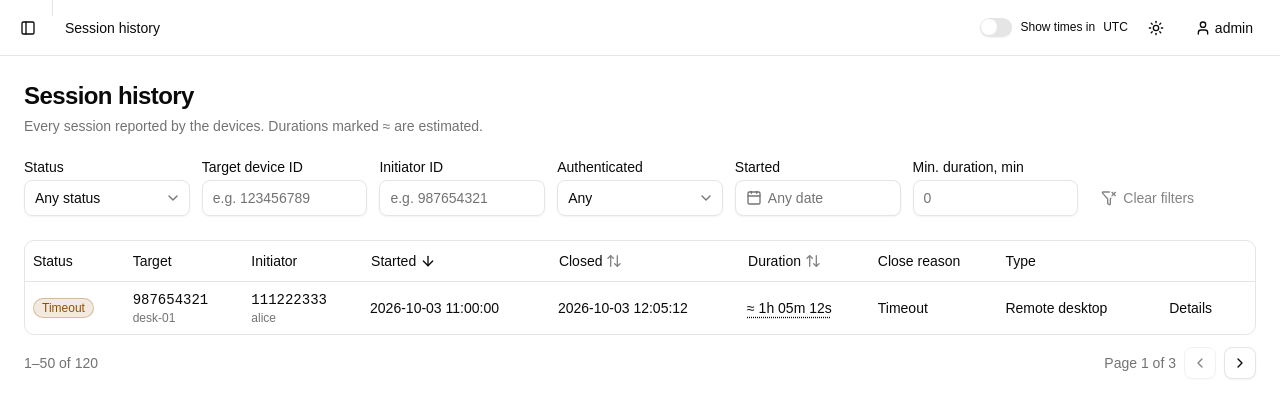
it: session history › paginates on the server
Check: the text "1–50 of 120" is shown, box [24,352,98,372]
Click the button named "Next page" at [1240, 362], box [1224,346,1256,378]
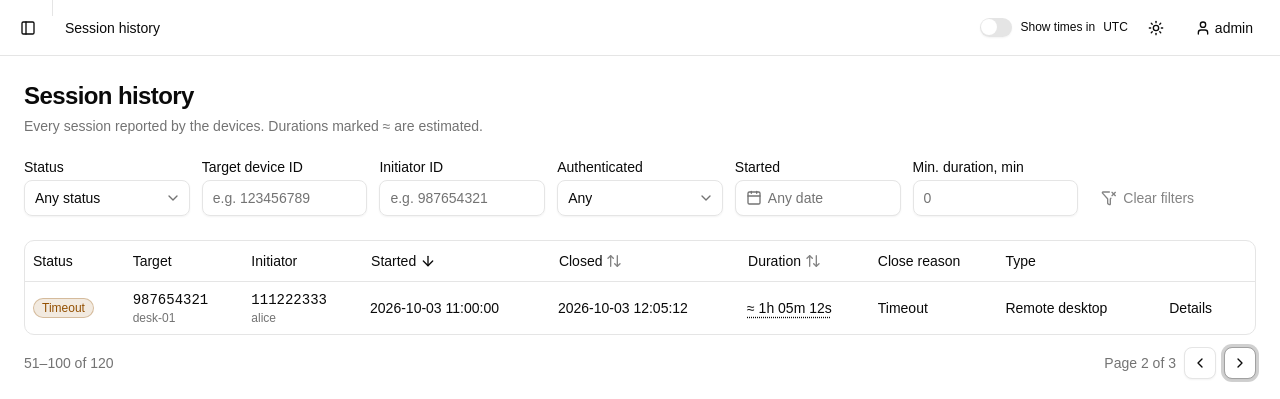
Check: the text "51–100 of 120" is shown, box [24,352,114,372]
